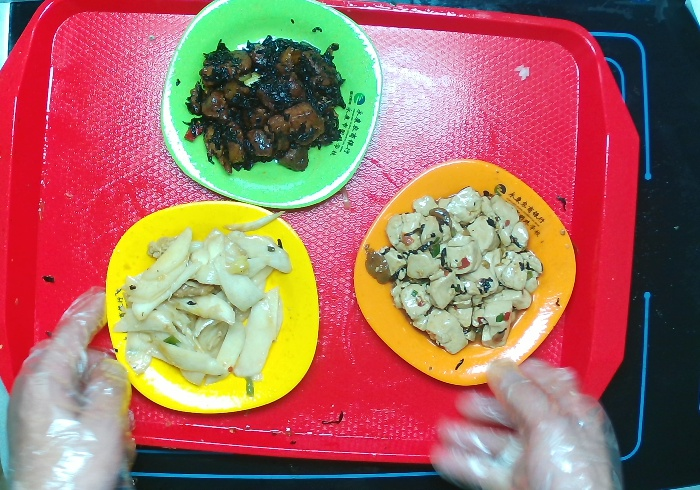YKMZ-Huang_Se_Fang_Die: (103, 200, 322, 417)
YKMZ-Ju_Se_Fang_Die: (347, 160, 577, 389)
YKMZ-Lv_Se_Fang_Die: (158, 1, 381, 208)
